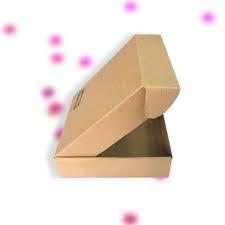box: (54, 34, 181, 178)
